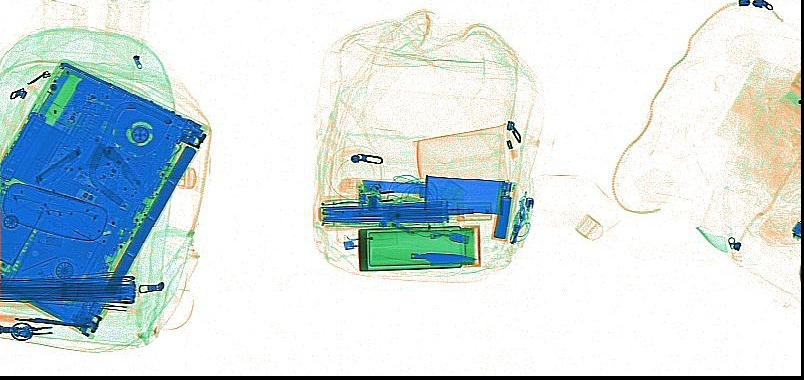knife: (371, 246, 476, 267), (34, 146, 81, 187), (337, 178, 432, 195), (1, 311, 88, 328)
zippooil: (417, 174, 505, 216)
